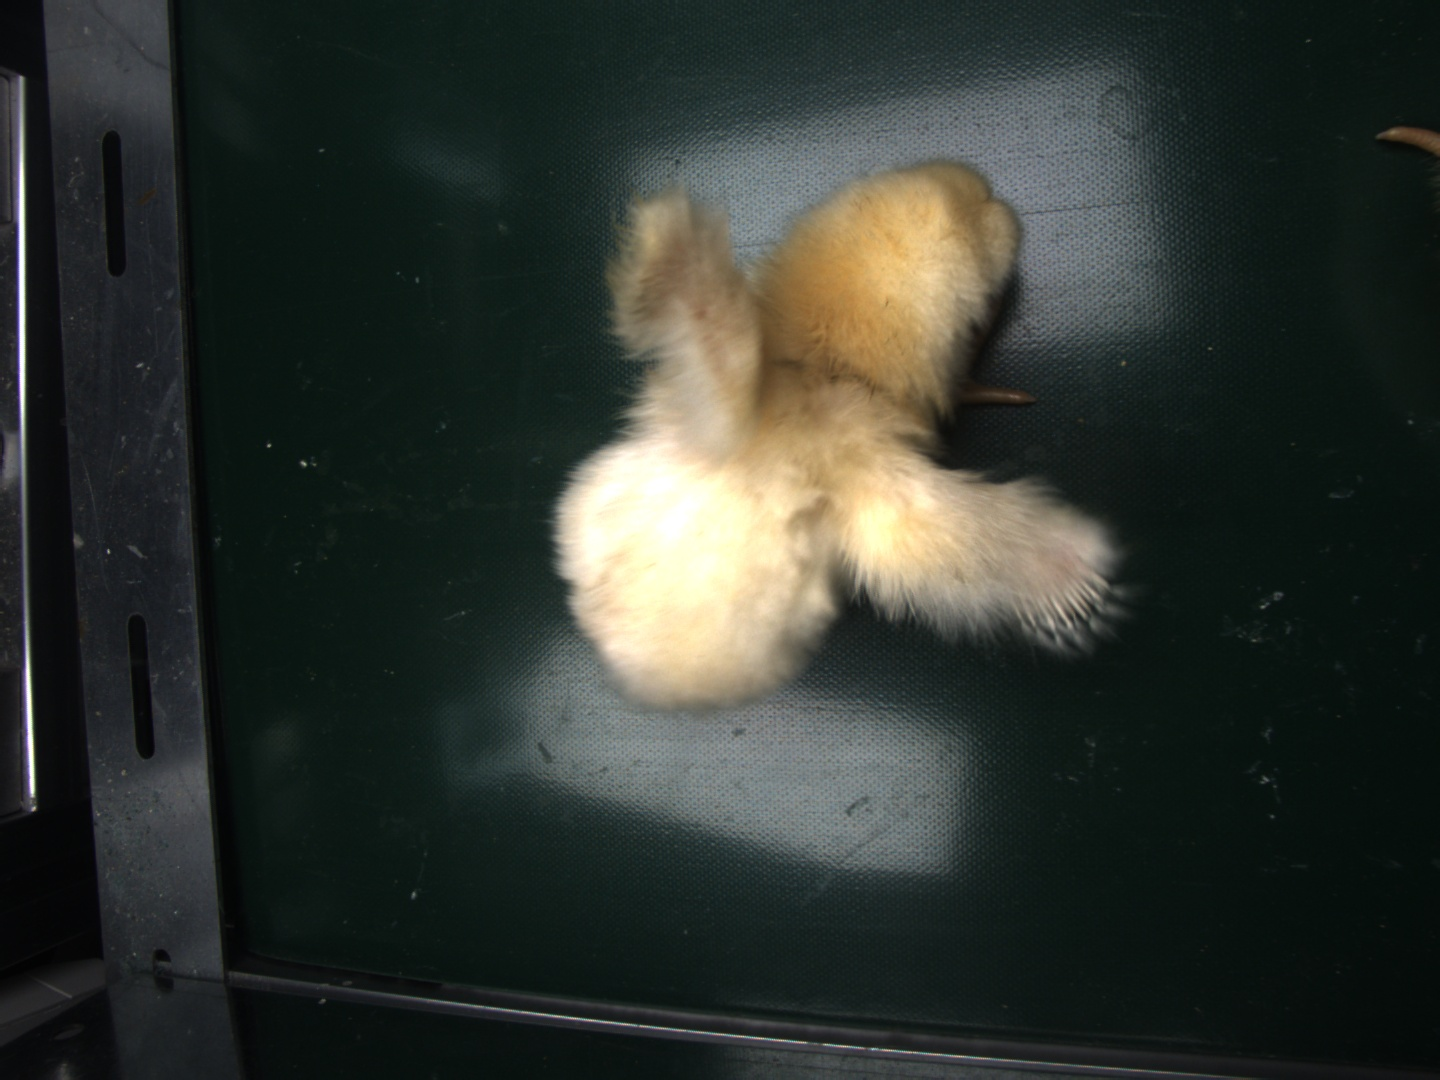male: (1013, 569, 1110, 634)
